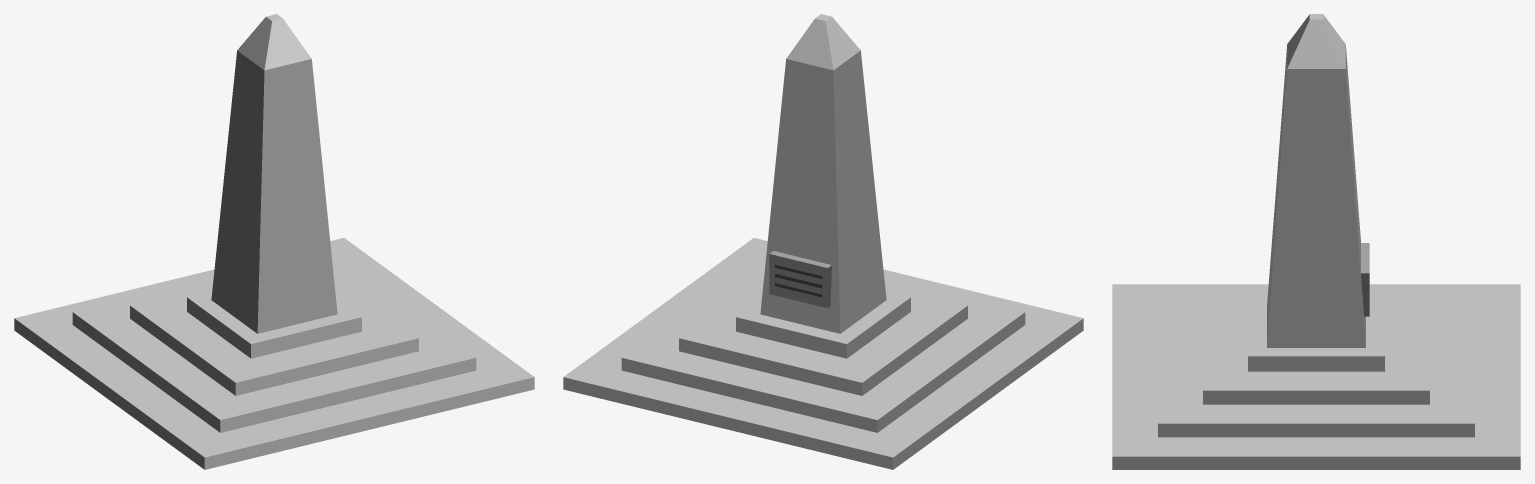
File: memorial_mesh.fbx
The picture shows the model from 3 angles, left to right: view 1: azimuth 30°, elevation 25°; view 2: azimuth 150°, elevation 25°; view 3: azimuth 270°, elevation 25°; orthographic projection. The views are drawn at different scales.
Visible parts, largest first — view 1: memorial_mesh; view 2: memorial_mesh; view 3: memorial_mesh.
Part boxes in pixels (left/top/right/bottom): memorial_mesh: left=14, top=14, right=534, bottom=469; memorial_mesh: left=563, top=14, right=1083, bottom=469; memorial_mesh: left=1112, top=14, right=1520, bottom=469.
Bounding box in the file's own units: 4.68 × 4.65 × 4.68.
